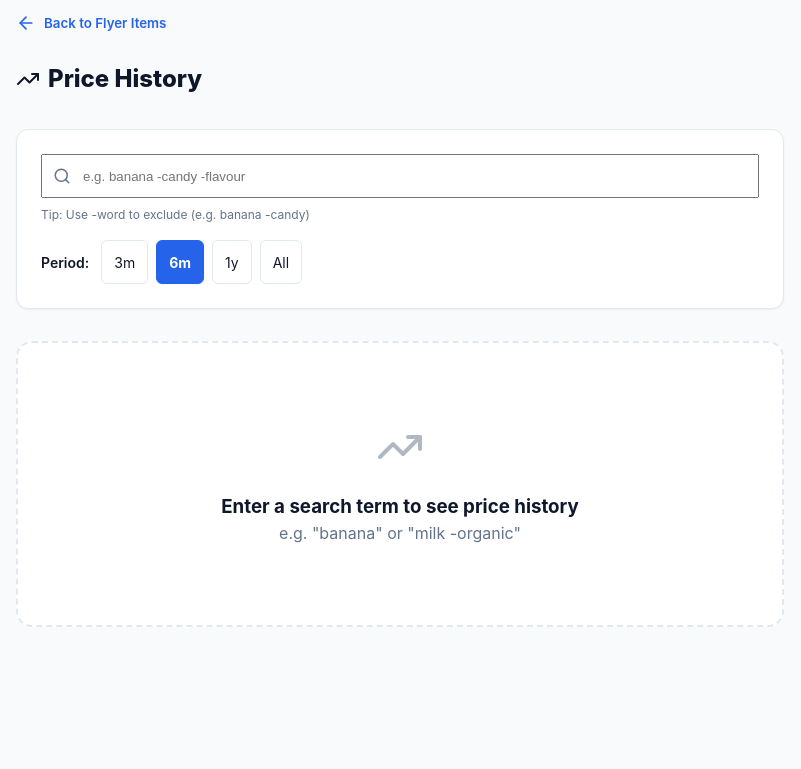
Test: PriceHistoryPage › shows correct price point count summary
Type "banana" into the field with placeholder "e.g. banana -candy -flavour" at coordinates (400, 176), box [41, 154, 759, 198]
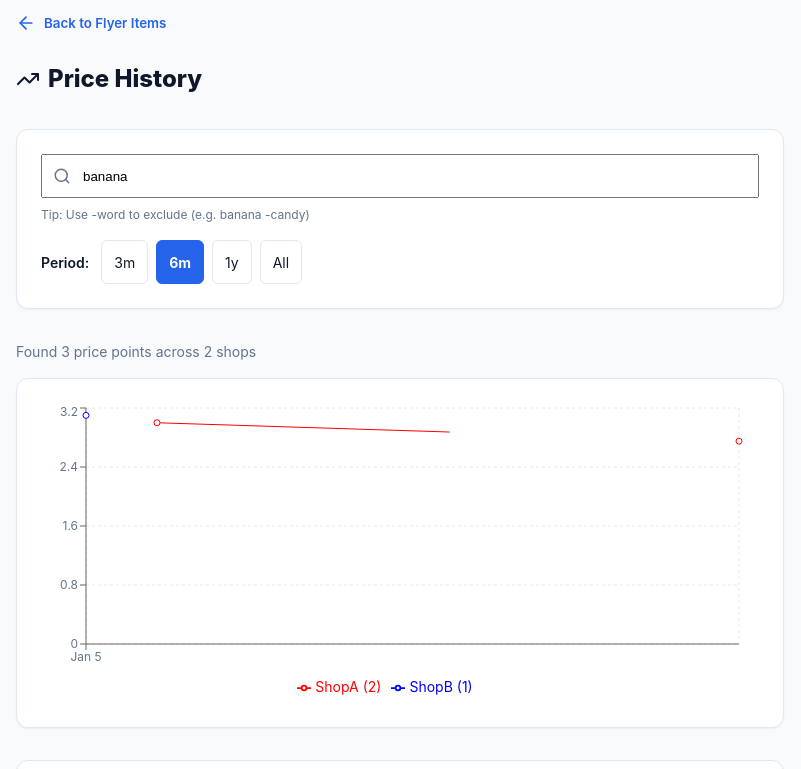
Expected: the text "Found 3 price points across 2 shops" is shown, [16, 343, 256, 360]
